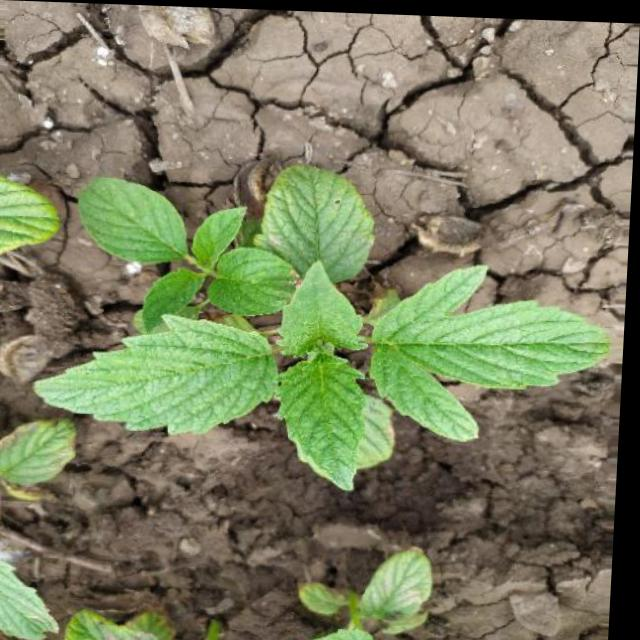crop: (42, 184, 632, 516)
